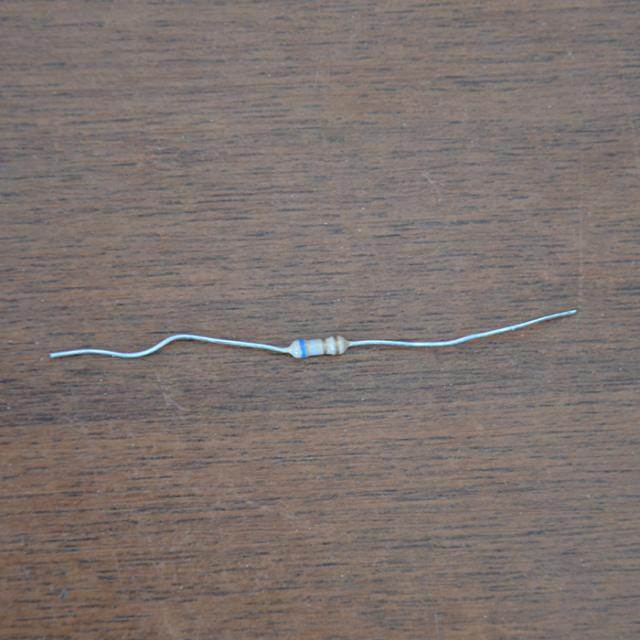blue: (299, 340, 306, 359)
gold: (334, 336, 340, 353), (322, 338, 325, 352)
grey: (309, 339, 317, 355)
resistor: (288, 323, 350, 370)
